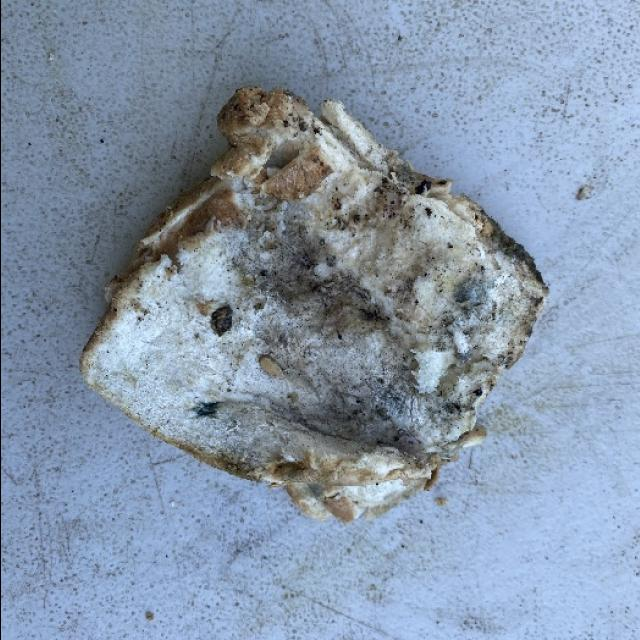organik: (67, 93, 547, 516)
